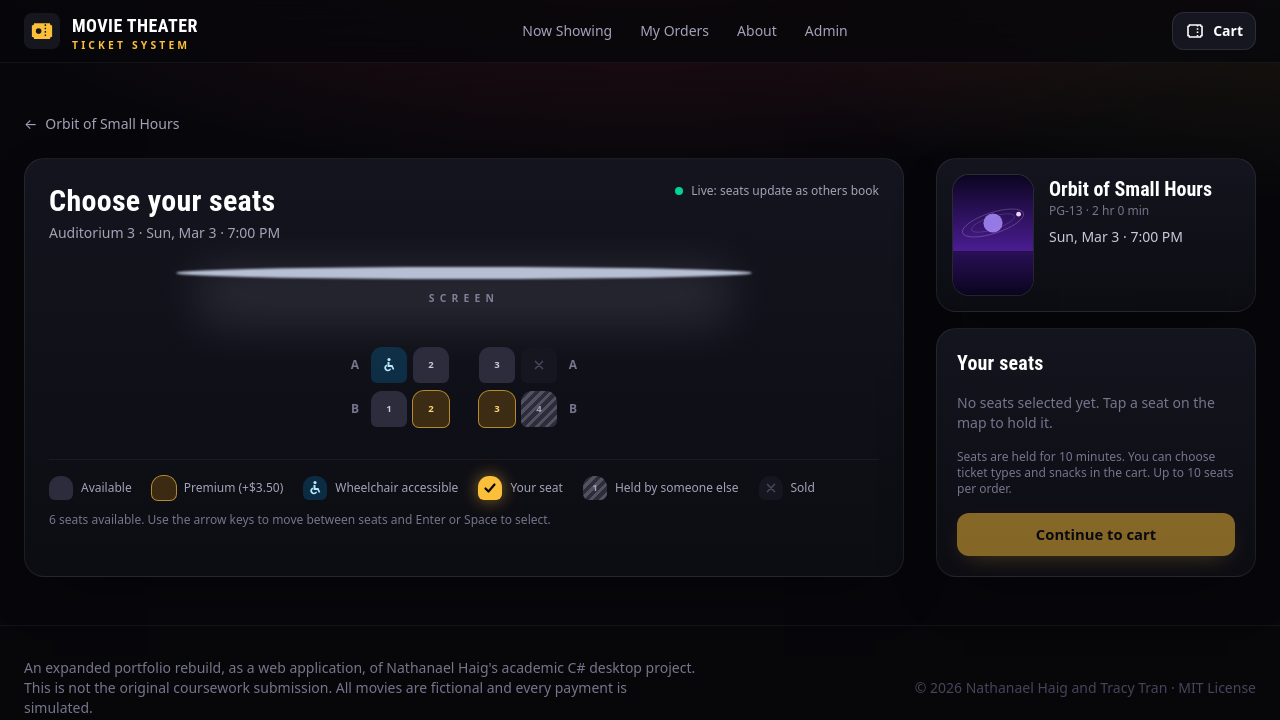
Test case: SeatSelectionPage › holds a seat on click and releases it on a second click
Click the button named "Row A seat 3, available": (497, 365) [479, 347, 515, 383]
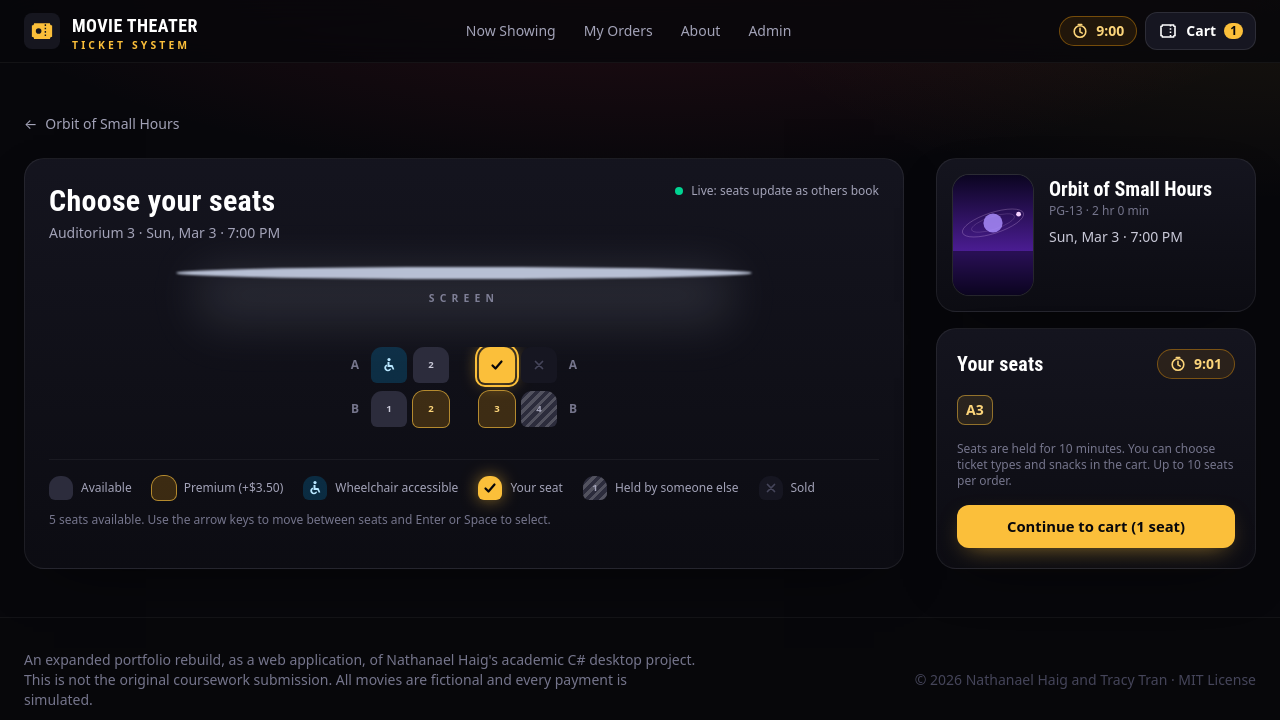
Now the button named "Row A seat 3, selected by you" is pressed
Click the button named "Row A seat 3, selected by you": (497, 365) [479, 347, 515, 383]
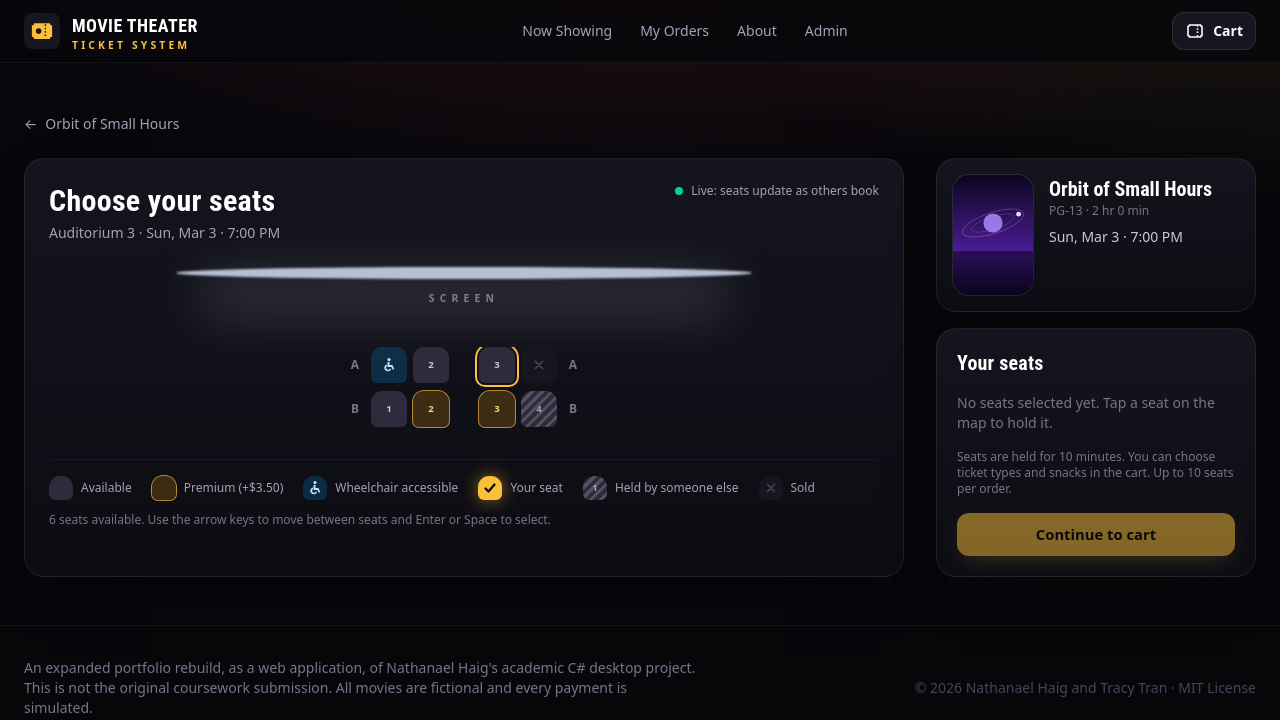
Now the button named "Row A seat 3, available" is shown, box [479, 347, 515, 383]
